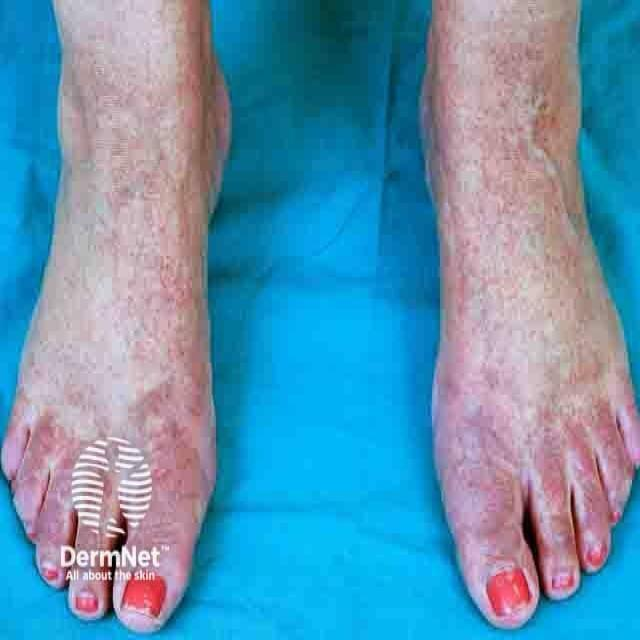Eczema: (442, 37, 640, 566), (26, 68, 203, 580)
